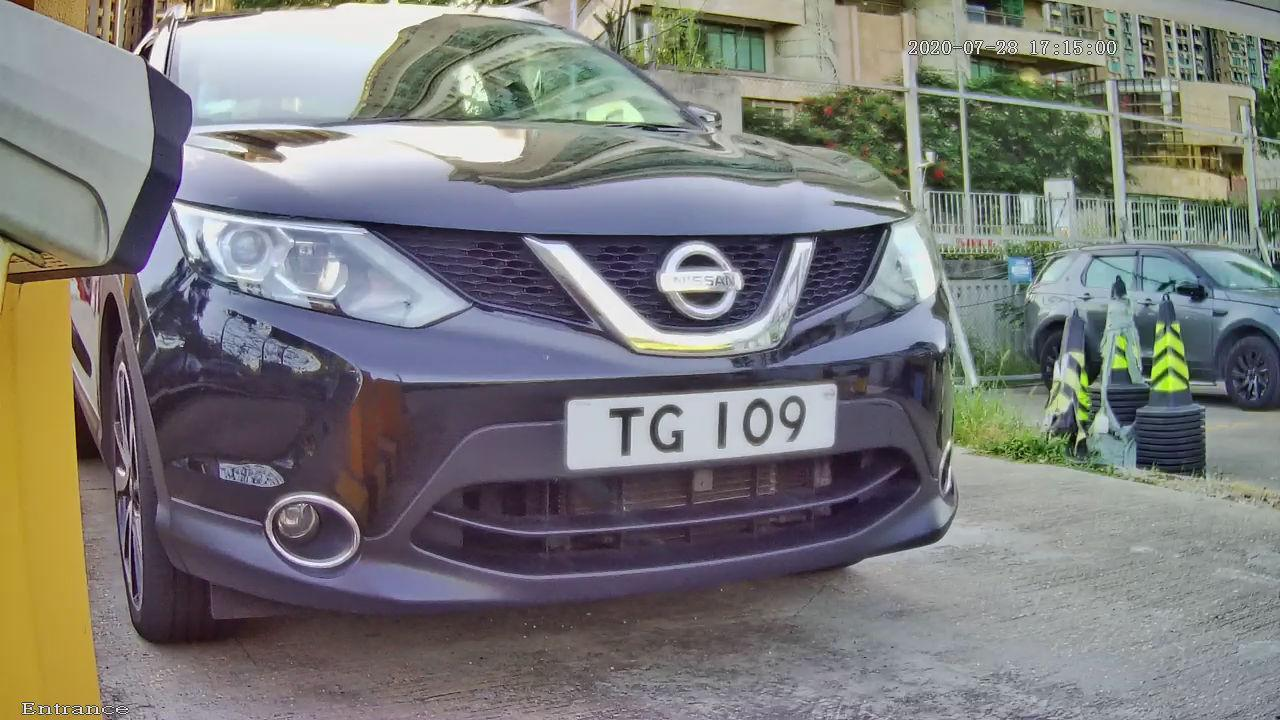privatecar: (6, 1, 1126, 688)
